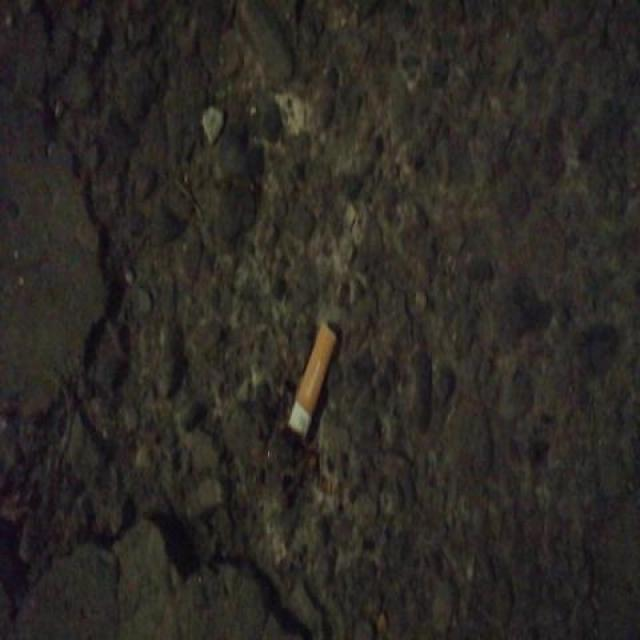non-organic waste: (284, 313, 340, 443)
